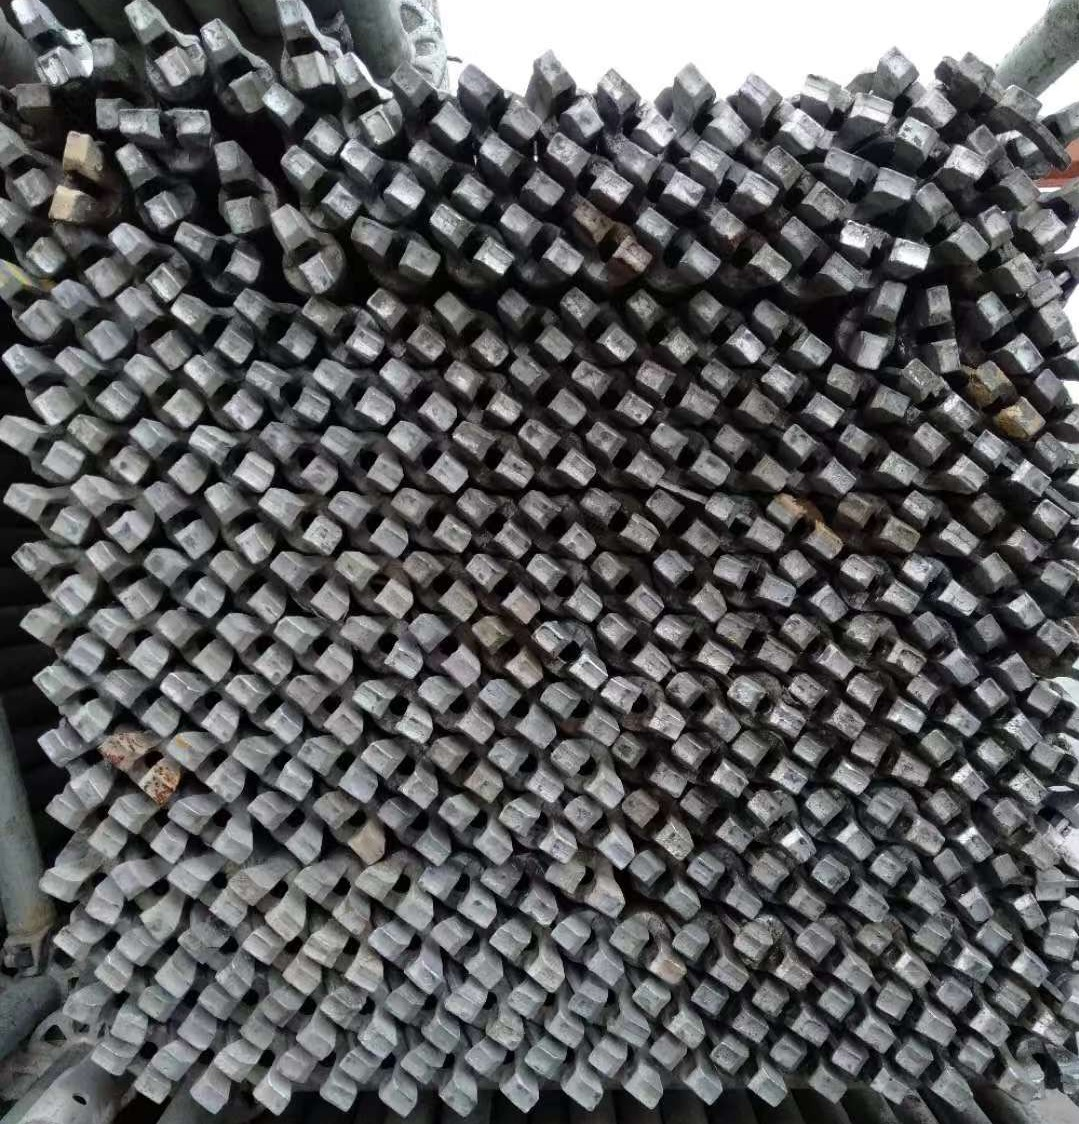NHsquare_steel: (273, 138, 364, 224), (196, 15, 272, 115), (400, 136, 497, 216), (776, 215, 867, 298), (954, 45, 1042, 129), (738, 69, 824, 154), (336, 138, 432, 215), (391, 59, 473, 149), (670, 61, 751, 152), (227, 288, 318, 367), (686, 140, 784, 214), (459, 60, 541, 148), (477, 133, 569, 211), (967, 123, 1046, 213), (539, 133, 636, 206), (51, 343, 140, 423), (495, 204, 588, 278), (965, 358, 1043, 447), (632, 207, 721, 284), (427, 204, 516, 280), (707, 211, 796, 287), (112, 142, 186, 234), (613, 145, 711, 214), (270, 204, 341, 298), (330, 48, 398, 147), (764, 149, 849, 227), (47, 279, 124, 365), (567, 203, 656, 277), (530, 51, 603, 142), (187, 421, 277, 495), (113, 287, 192, 371), (110, 220, 188, 305), (819, 143, 918, 209), (343, 215, 443, 281), (365, 288, 450, 365), (10, 1, 86, 86), (170, 295, 257, 369), (28, 659, 106, 742), (750, 295, 834, 371), (182, 357, 268, 432), (504, 357, 591, 431), (879, 45, 958, 126), (123, 354, 206, 432), (12, 608, 104, 676), (123, 2, 195, 90), (836, 214, 932, 279), (433, 293, 513, 371), (594, 606, 672, 686), (585, 421, 670, 495), (600, 69, 677, 151), (142, 549, 224, 624), (450, 421, 536, 493), (204, 134, 265, 235), (376, 357, 458, 433), (384, 421, 466, 497), (634, 354, 723, 424), (164, 800, 256, 866), (203, 484, 276, 567), (269, 613, 352, 686), (695, 360, 784, 429), (262, 83, 346, 156), (311, 361, 401, 429), (442, 360, 528, 431), (895, 118, 990, 183), (172, 220, 263, 286), (563, 289, 641, 366), (141, 483, 218, 561), (51, 220, 127, 299), (45, 923, 132, 993), (692, 290, 767, 370), (778, 421, 858, 497), (301, 292, 383, 365), (4, 343, 77, 426), (967, 674, 1040, 757), (473, 680, 558, 751), (129, 418, 206, 497), (68, 481, 148, 556), (623, 288, 697, 369), (392, 487, 475, 559), (283, 676, 365, 749), (642, 420, 731, 488), (322, 425, 406, 496), (260, 488, 343, 559), (242, 359, 334, 424), (325, 490, 410, 560), (594, 678, 688, 742), (805, 69, 895, 134), (497, 293, 576, 367), (12, 543, 92, 616), (728, 925, 815, 993), (769, 1034, 851, 1105), (521, 553, 604, 623), (973, 293, 1042, 377), (764, 363, 849, 432), (705, 1039, 790, 1107), (48, 124, 103, 230), (313, 793, 388, 870), (213, 551, 287, 629), (900, 360, 981, 433), (269, 553, 350, 624), (82, 611, 166, 680), (921, 184, 990, 268), (73, 415, 151, 490), (181, 926, 255, 1004), (778, 613, 856, 686), (893, 1041, 972, 1114), (711, 425, 790, 497), (31, 733, 103, 812), (334, 550, 415, 621), (105, 795, 186, 866), (585, 1038, 666, 1108), (2, 484, 90, 548), (293, 740, 377, 807), (848, 278, 906, 375), (215, 613, 291, 687), (469, 615, 545, 689), (158, 609, 231, 686), (550, 914, 627, 988), (263, 424, 341, 496), (229, 870, 307, 942), (903, 423, 983, 494), (83, 544, 155, 623), (357, 738, 437, 809), (273, 3, 336, 92), (567, 362, 656, 426), (370, 800, 457, 865), (578, 488, 659, 557), (221, 677, 302, 747), (167, 861, 248, 930), (794, 925, 875, 995), (520, 421, 602, 490), (824, 360, 912, 424), (520, 493, 597, 565), (461, 556, 540, 626), (240, 927, 320, 997), (365, 926, 447, 995), (841, 425, 923, 492), (137, 985, 219, 1052), (723, 678, 810, 742), (42, 796, 125, 862), (713, 613, 797, 678), (784, 672, 868, 738), (494, 802, 578, 867), (440, 986, 528, 1048), (977, 552, 1045, 632), (294, 871, 374, 939), (96, 672, 178, 740), (112, 930, 194, 998), (409, 615, 482, 689), (433, 916, 507, 990), (656, 551, 729, 626), (591, 552, 666, 624), (437, 797, 515, 866), (841, 617, 925, 681), (149, 1049, 233, 1113), (397, 1051, 482, 1115), (342, 616, 422, 684), (746, 854, 825, 922), (534, 686, 622, 748), (86, 1040, 173, 1102), (350, 681, 433, 747), (155, 677, 237, 743), (249, 793, 322, 866), (493, 921, 567, 994), (649, 1038, 727, 1107), (4, 416, 87, 481), (794, 735, 872, 803), (750, 983, 834, 1047), (833, 497, 921, 557), (982, 208, 1040, 299), (458, 492, 533, 562), (684, 983, 770, 1045), (419, 679, 496, 748), (618, 794, 696, 862), (559, 799, 636, 867), (568, 988, 655, 1048), (654, 612, 734, 678), (861, 796, 946, 858), (668, 926, 754, 988), (315, 992, 400, 1053), (897, 496, 979, 560), (255, 992, 336, 1056), (805, 790, 876, 863), (403, 556, 479, 625), (991, 800, 1060, 875), (603, 921, 686, 985), (818, 987, 900, 1050), (212, 1049, 292, 1113), (101, 735, 175, 805), (628, 852, 702, 922), (428, 739, 504, 806), (700, 497, 782, 559), (973, 922, 1050, 989), (854, 921, 931, 988), (33, 870, 122, 927), (813, 859, 891, 924), (630, 983, 709, 1049), (277, 1048, 360, 1109), (731, 732, 810, 796), (850, 730, 930, 793), (303, 932, 387, 993), (459, 1049, 543, 1109), (833, 1044, 913, 1107), (550, 741, 624, 809), (747, 788, 814, 863), (197, 986, 278, 1048), (902, 554, 979, 620), (113, 857, 179, 934), (229, 738, 311, 799), (357, 867, 436, 931), (931, 977, 1010, 1042), (870, 985, 957, 1043), (977, 430, 1050, 498), (527, 1045, 607, 1107), (666, 675, 741, 743), (503, 985, 587, 1044), (537, 616, 603, 691), (920, 730, 986, 806), (912, 924, 995, 985), (928, 789, 992, 867), (490, 741, 564, 807), (845, 676, 925, 738), (783, 550, 848, 625), (766, 498, 842, 562), (841, 552, 918, 615), (416, 868, 498, 927), (649, 494, 720, 563), (670, 736, 750, 797), (993, 980, 1068, 1045), (341, 1051, 418, 1114), (968, 613, 1027, 694), (707, 554, 795, 608), (873, 851, 949, 914), (1, 206, 70, 274), (175, 732, 240, 804), (679, 792, 755, 853), (958, 1042, 1034, 1103), (974, 497, 1040, 567), (381, 992, 459, 1052), (981, 734, 1043, 808), (683, 855, 759, 915), (906, 676, 977, 742), (545, 863, 627, 918), (1, 264, 63, 336), (990, 854, 1047, 932), (612, 735, 685, 796), (931, 851, 992, 924), (920, 281, 967, 376), (481, 871, 559, 927), (3, 122, 52, 212), (61, 994, 147, 1045), (115, 103, 216, 143), (919, 614, 974, 686), (1030, 365, 1079, 440)
